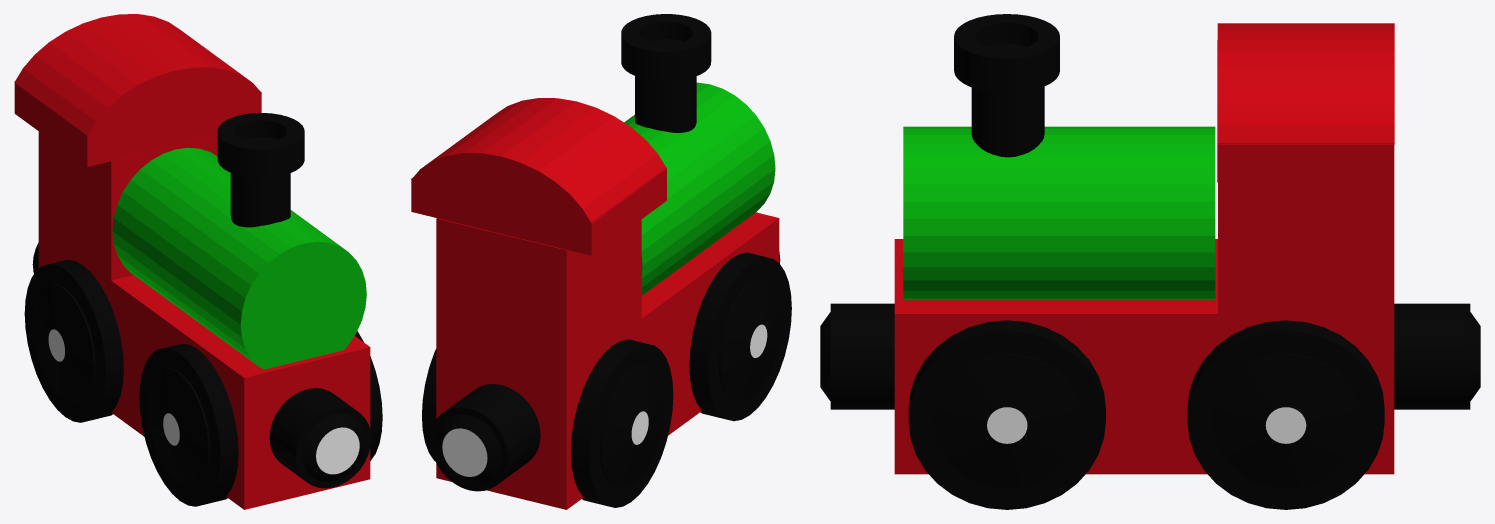
Rendered from おもちゃの列車 1.fbx.
3 views of the same model, side by side, from view 1: azimuth 30°, elevation 25°; view 2: azimuth 150°, elevation 25°; view 3: azimuth 270°, elevation 25° (orthographic). The views are drawn at different scales.
Parts seen in each view (by area): view 1: 円柱, 立方体, 円柱.003, 円柱.002, 円柱.001, 立方体.001, 円柱.006, 円柱.005, 円柱.004; view 2: 立方体, 円柱.003, 円柱, 円柱.001, 円柱.002, 円柱.007, 立方体.001, 円柱.005, 円柱.004; view 3: 立方体, 円柱, 円柱.001, 円柱.002, 円柱.003, 円柱.007, 円柱.006, 円柱.005, 立方体.001, 円柱.004.
Part boxes in pixels (x1,y1,x2,y2): 円柱: [112, 147, 366, 369]; 立方体: [38, 131, 370, 509]; 円柱.003: [14, 14, 260, 135]; 円柱.002: [139, 331, 382, 506]; 円柱.001: [24, 259, 123, 422]; 立方体.001: [14, 81, 261, 166]; 円柱.006: [269, 388, 371, 488]; 円柱.005: [217, 113, 304, 177]; 円柱.004: [230, 173, 290, 227]; 立方体: [436, 212, 779, 509]; 円柱.003: [411, 98, 666, 223]; 円柱: [624, 82, 775, 295]; 円柱.001: [422, 339, 673, 507]; 円柱.002: [689, 252, 791, 421]; 円柱.007: [430, 384, 540, 491]; 立方体.001: [411, 167, 666, 255]; 円柱.005: [621, 14, 711, 81]; 円柱.004: [635, 76, 696, 132]; 立方体: [894, 182, 1394, 474]; 円柱: [903, 126, 1215, 300]; 円柱.001: [1187, 320, 1384, 509]; 円柱.002: [908, 320, 1105, 509]; 円柱.003: [1217, 23, 1394, 144]; 円柱.007: [1394, 303, 1480, 409]; 円柱.006: [820, 303, 894, 409]; 円柱.005: [954, 14, 1059, 93]; 立方体.001: [1217, 40, 1394, 182]; 円柱.004: [971, 86, 1044, 157].
Size of the model in its own units: 284 by 530 by 746.
